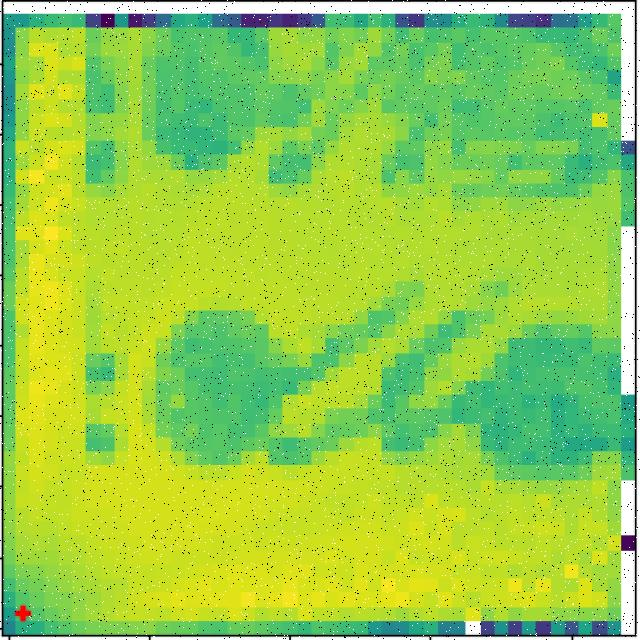Concrete: (429, 295, 608, 479)
Glass: (162, 300, 287, 483)
Metal: (439, 32, 608, 198)
Wood: (128, 32, 300, 188)
